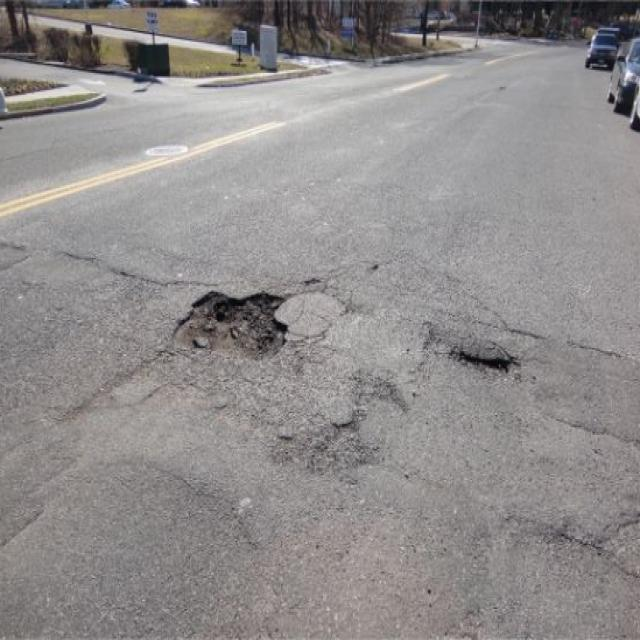pothole: (172, 280, 298, 356)
